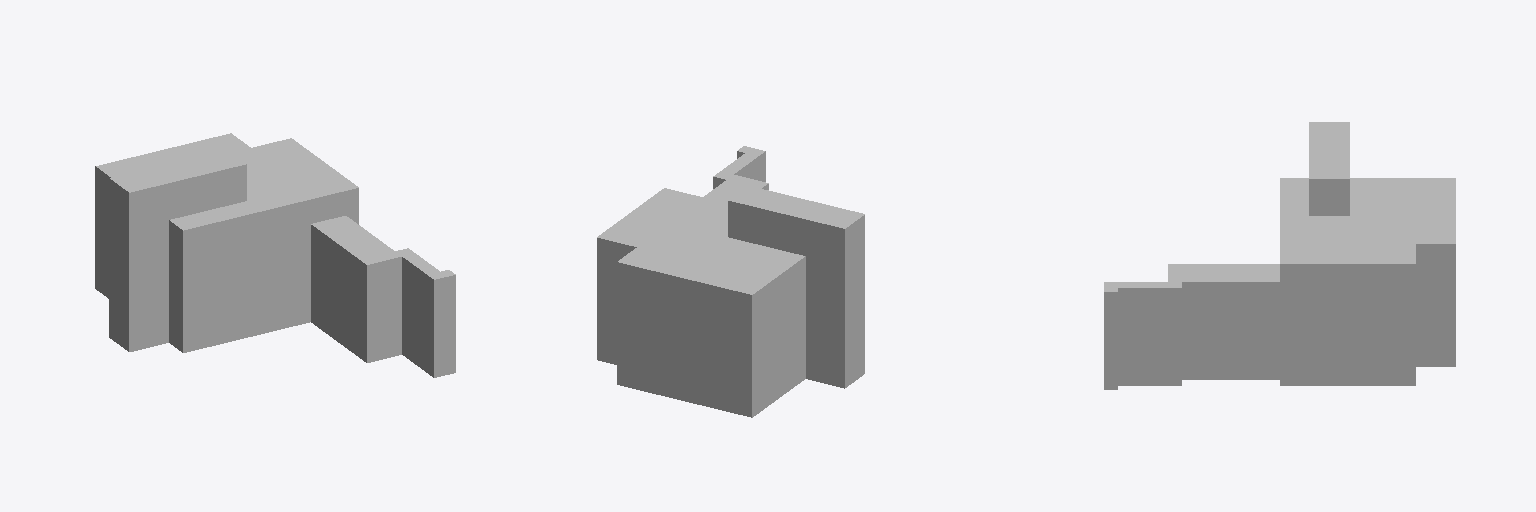
Rendered from 궁리실험관.obj.
3 renders of one model, left to right at view 1: azimuth 30°, elevation 25°; view 2: azimuth 150°, elevation 25°; view 3: azimuth 270°, elevation 25°, orthographic.
Parts seen in each view (by area): view 1: 큐브.003_큐브.005, 큐브.005_큐브.007, 큐브.004_큐브.006; view 2: 큐브.003_큐브.005, 큐브.004_큐브.006, 큐브.005_큐브.007; view 3: 큐브.003_큐브.005, 큐브.005_큐브.007, 큐브.004_큐브.006.
Part boxes in pixels (x1,y1,x2,y2): 큐브.003_큐브.005: (95,133,358,352); 큐브.005_큐브.007: (311,216,455,377); 큐브.004_큐브.006: (109,149,246,351); 큐브.003_큐브.005: (597,188,805,417); 큐브.004_큐브.006: (728,186,864,388); 큐브.005_큐브.007: (704,146,768,202); 큐브.003_큐브.005: (1280,178,1455,385); 큐브.005_큐브.007: (1104,264,1279,389); 큐브.004_큐브.006: (1309,122,1349,215).
Size of the model in its own units: 38.18 by 26 by 51.97.